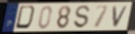0: (38, 5, 53, 30)
7: (93, 4, 109, 29)
8: (56, 5, 72, 30)
D: (14, 5, 38, 31)
S: (73, 4, 92, 29)
V: (112, 5, 130, 28)
